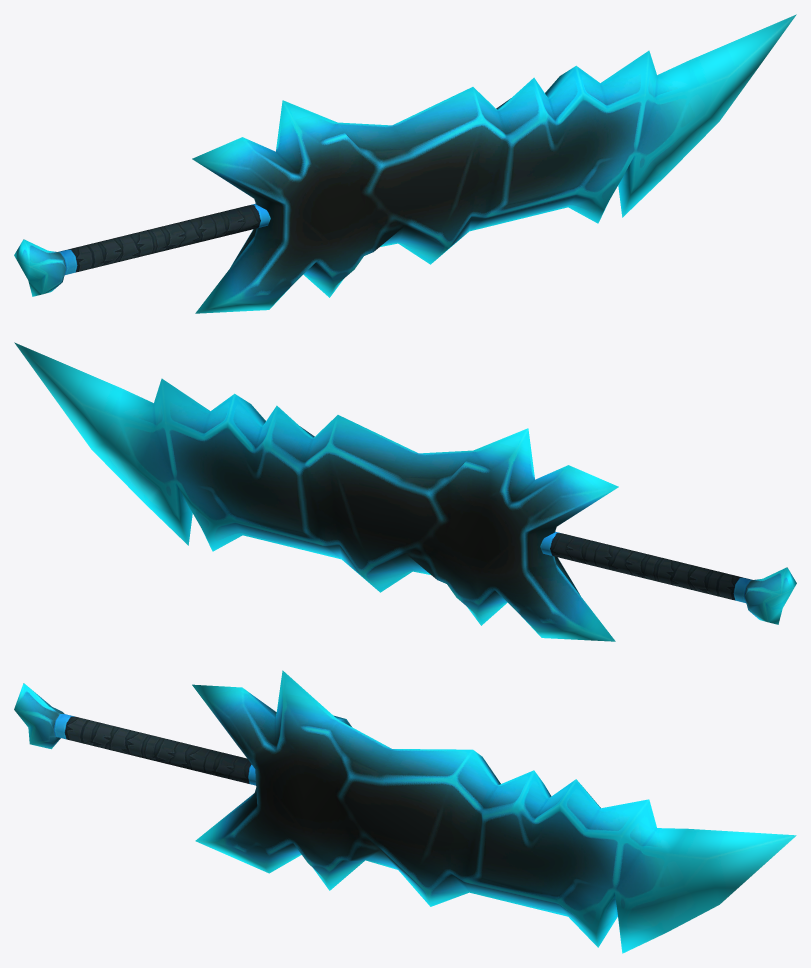
File: item_weaswtmgm2501-et03.glb
3 renders of one model, top to bottom at view 1: azimuth 30°, elevation 25°; view 2: azimuth 150°, elevation 25°; view 3: azimuth 330°, elevation 25°, orthographic.
Visible parts, largest first — view 1: FlyffMesh; view 2: FlyffMesh; view 3: FlyffMesh.
Boxes of the visible parts, x1,y1,x2,y2 form: FlyffMesh: [14, 14, 796, 313]; FlyffMesh: [14, 342, 796, 641]; FlyffMesh: [14, 670, 796, 953].
Bounding box in the file's own units: 2.15 × 0.5514 × 0.1482.
1 material, 1 textured.
